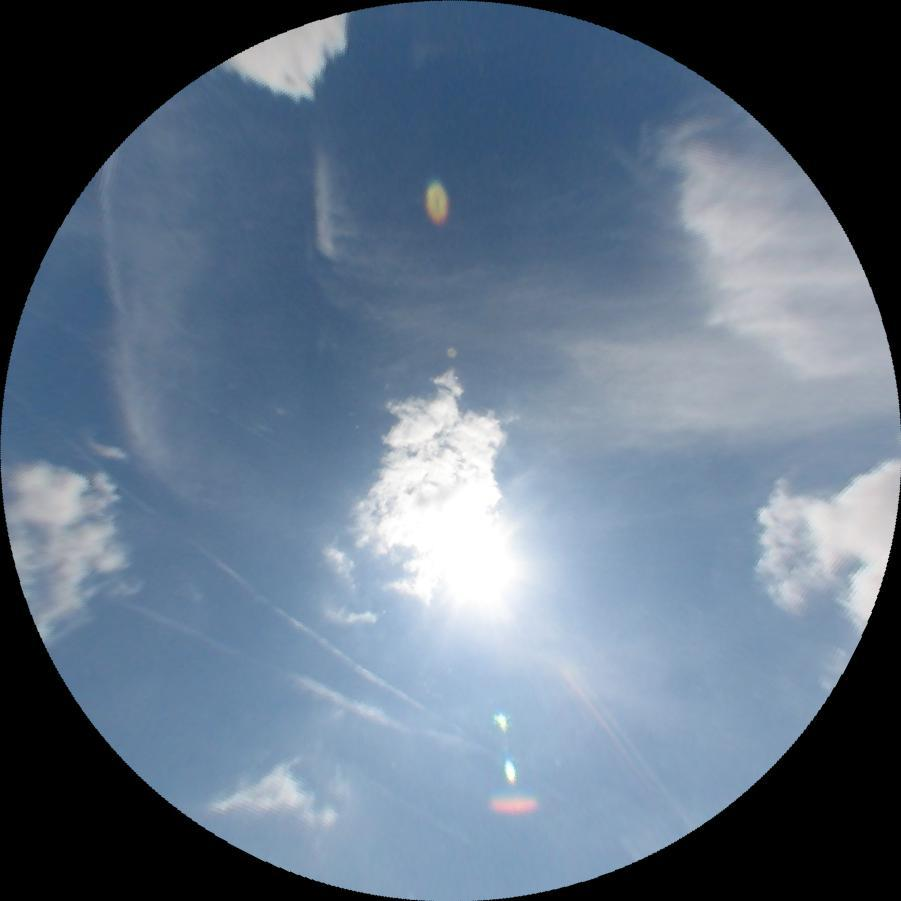contrail veryold: (62, 437, 427, 720), (117, 598, 487, 761)
sun: (418, 513, 513, 604)
